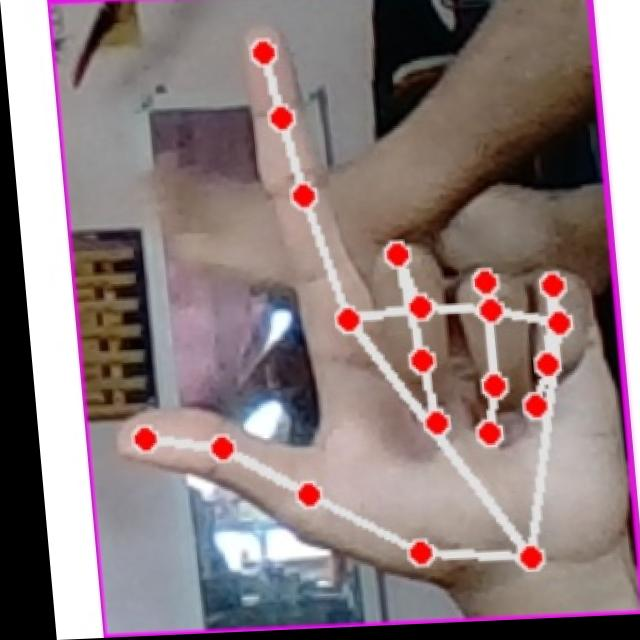L: (69, 1, 623, 608)
